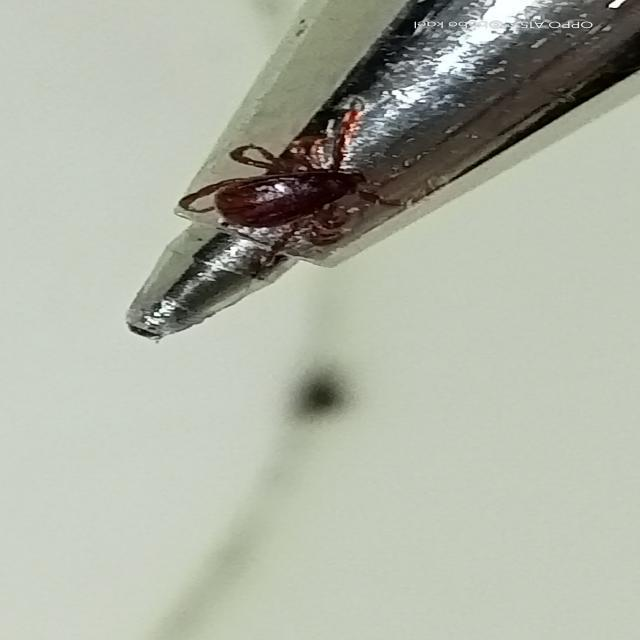Rhipicephalus Sanguineus-M: (178, 97, 380, 245)
